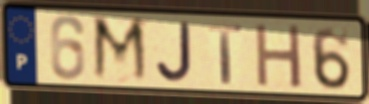6: (309, 24, 353, 92), (48, 13, 87, 82)
H: (253, 21, 305, 90)
J: (154, 19, 195, 85)
M: (90, 13, 152, 86)
T: (206, 22, 244, 86)
